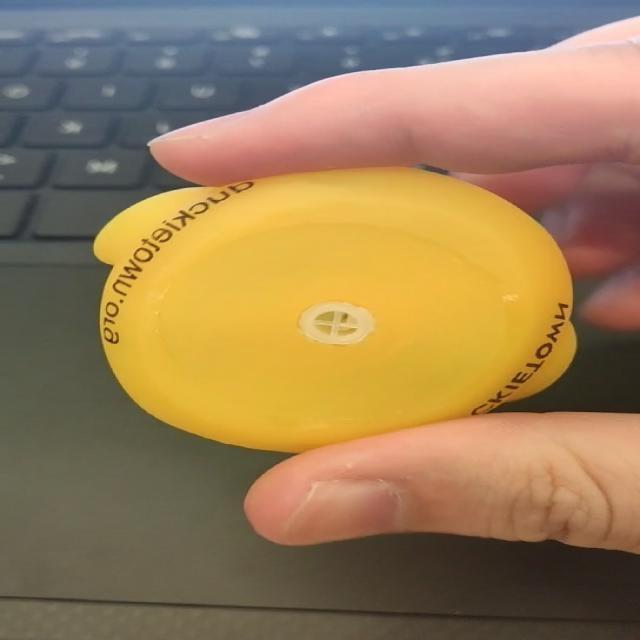rubber-duck: (93, 167, 574, 450)
